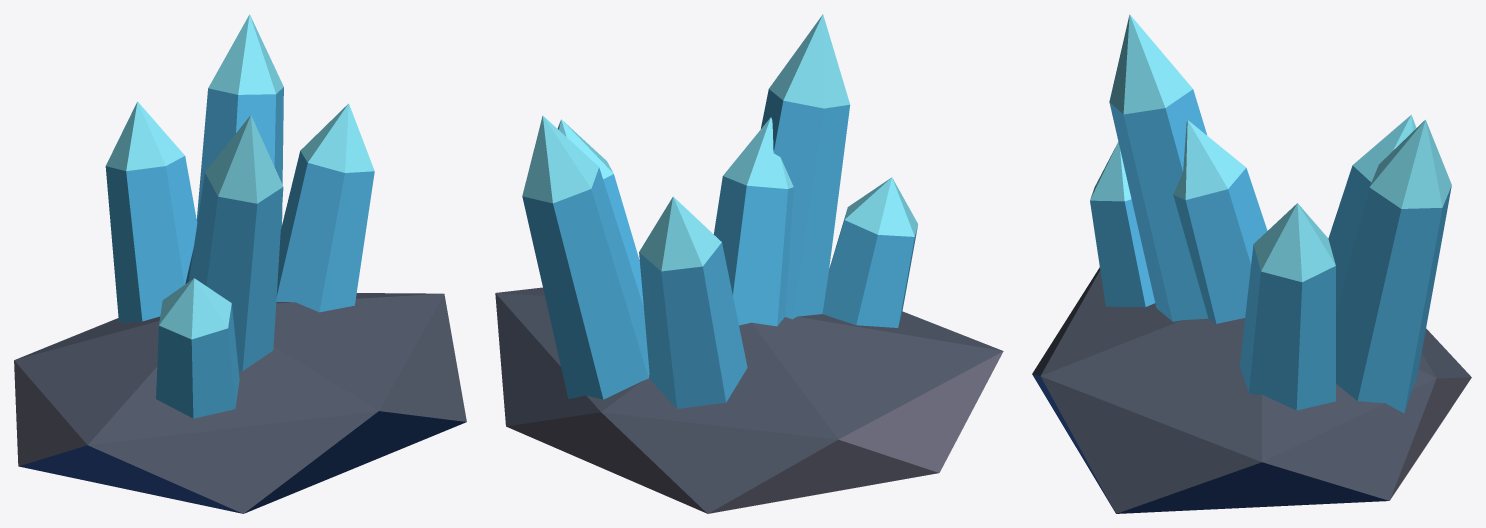
Rendered from Crystal_Cluster_A.obj.
3 views of the same model, side by side, from view 1: azimuth 30°, elevation 25°; view 2: azimuth 150°, elevation 25°; view 3: azimuth 270°, elevation 25° (orthographic). The views are drawn at different scales.
Visible parts, largest first — view 1: Crystal_Cluster_A; view 2: Crystal_Cluster_A; view 3: Crystal_Cluster_A.
Boxes of the visible parts, x1,y1,x2,y2 form: Crystal_Cluster_A: (14,14,466,513); Crystal_Cluster_A: (495,14,1003,513); Crystal_Cluster_A: (1032,14,1471,513).
Bounding box in the file's own units: 1.96 × 1.56 × 1.6.
1 material, 1 textured.
